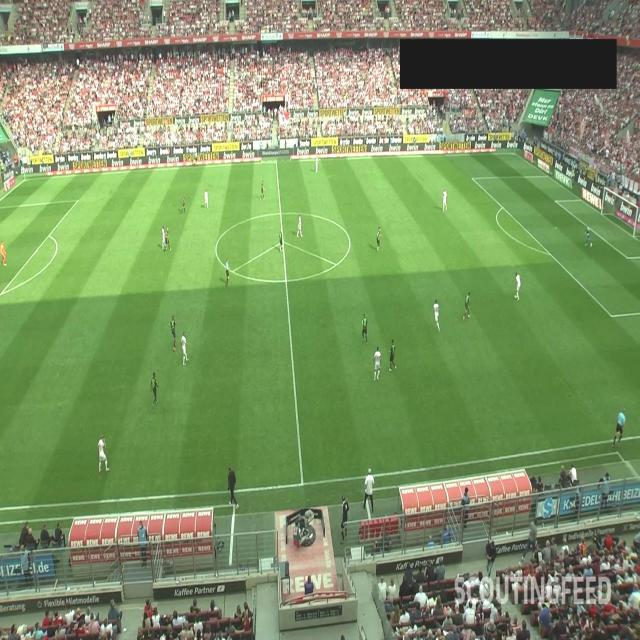ball: (514, 294, 517, 300)
goalkeeper: (584, 224, 593, 250), (0, 240, 6, 266)
player: (98, 435, 110, 473), (150, 371, 159, 407), (373, 346, 381, 382), (170, 314, 177, 352), (388, 339, 396, 371), (433, 298, 440, 332), (361, 312, 368, 344), (464, 291, 471, 321), (182, 332, 188, 366), (514, 272, 520, 300), (166, 226, 172, 252), (376, 226, 382, 251), (296, 214, 302, 238), (161, 226, 166, 252), (442, 188, 447, 212), (278, 230, 283, 252), (204, 188, 208, 209), (261, 180, 265, 200), (182, 193, 186, 213), (314, 156, 318, 173)
referee: (613, 408, 626, 448), (225, 258, 230, 285), (193, 148, 198, 168)
